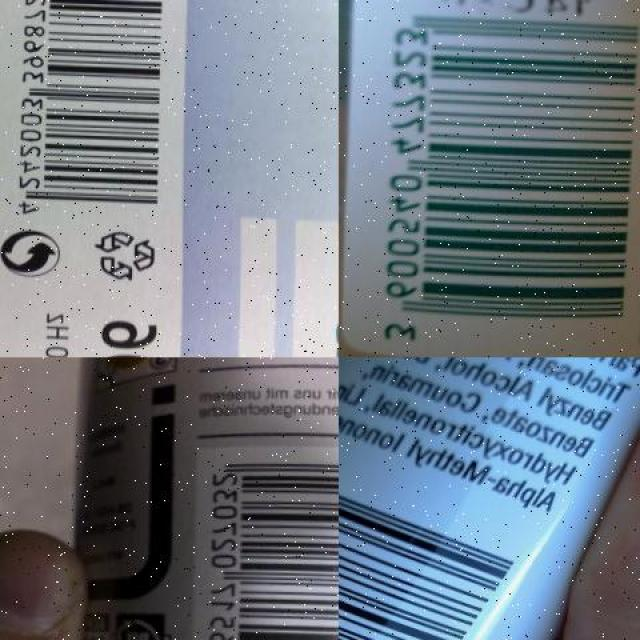Barcode: (365, 0, 639, 357), (1, 0, 178, 223), (339, 461, 512, 640), (196, 442, 338, 640)
